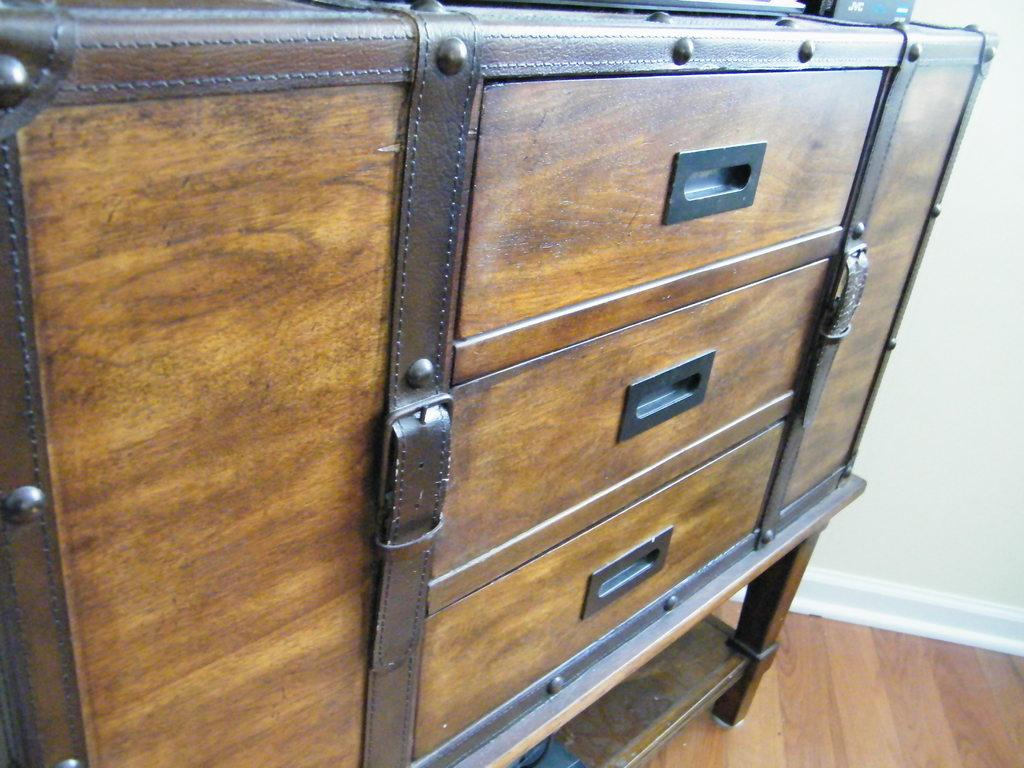cabinet_door: (480, 68, 850, 232), (434, 310, 804, 442), (451, 488, 756, 630)
handle: (654, 130, 766, 205), (605, 364, 715, 425), (578, 542, 676, 600)
